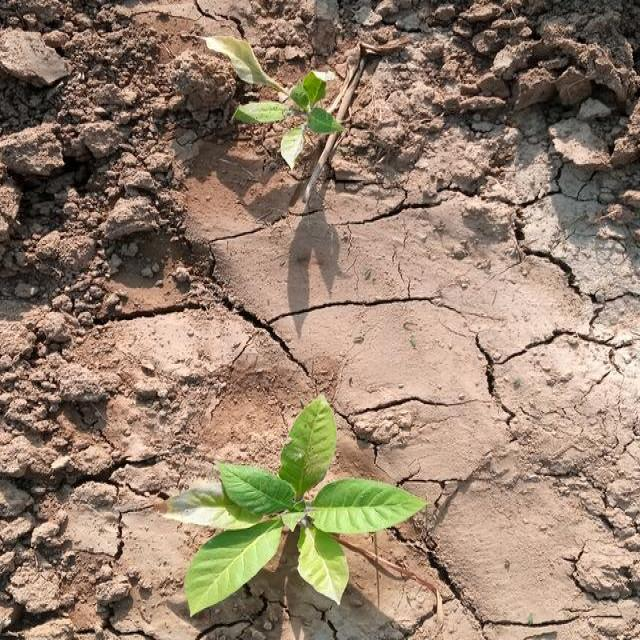crop: (178, 403, 416, 612), (207, 36, 346, 177)
